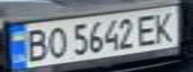2: (115, 15, 139, 49)
4: (103, 16, 124, 52)
5: (69, 20, 90, 56)
6: (87, 18, 109, 54)
B: (18, 26, 51, 63)
E: (133, 11, 163, 47)
K: (151, 9, 181, 44)
O: (42, 24, 69, 60)
